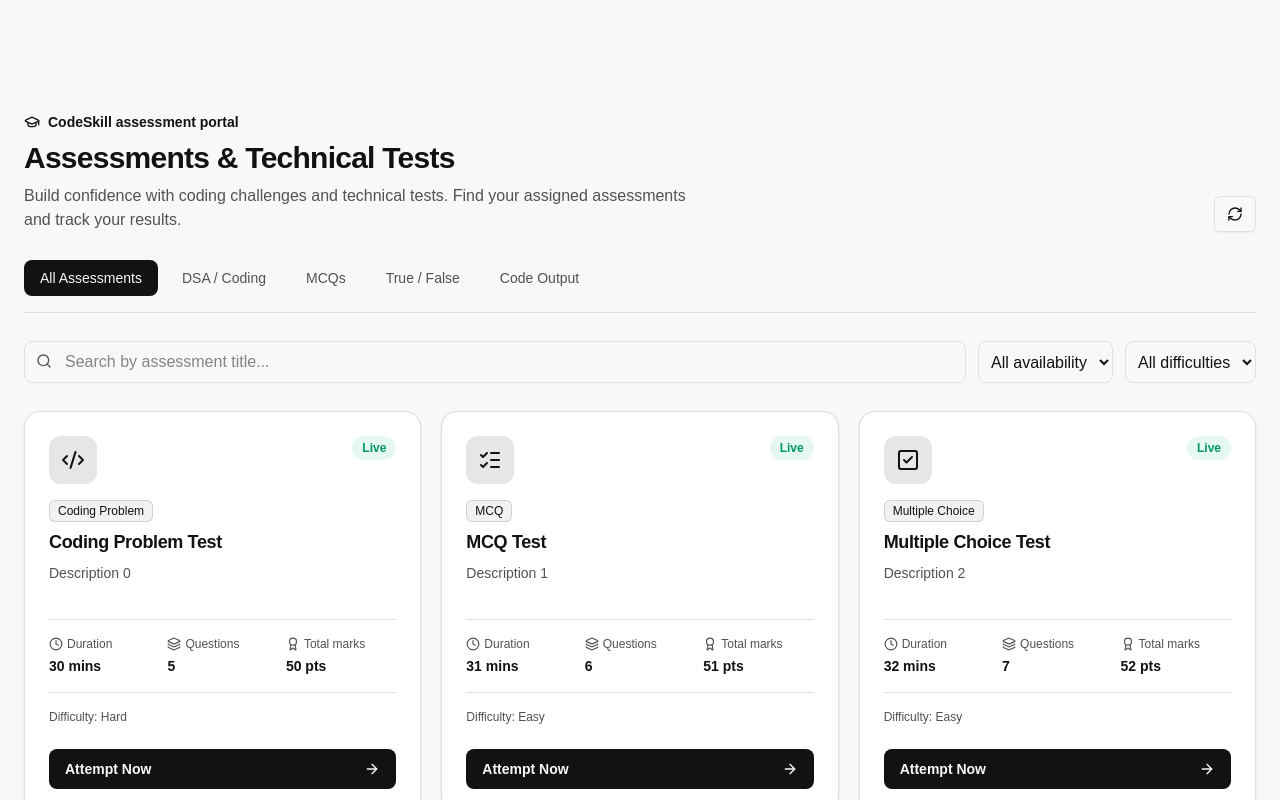
Test: supports title search, grouped MCQ tabs, availability and difficulty filters
Expected: the heading "Coding Problem Test" is shown, 49,532 -> 222,552
Click the button "MCQs" at (326, 278), box 290,260 -> 362,296
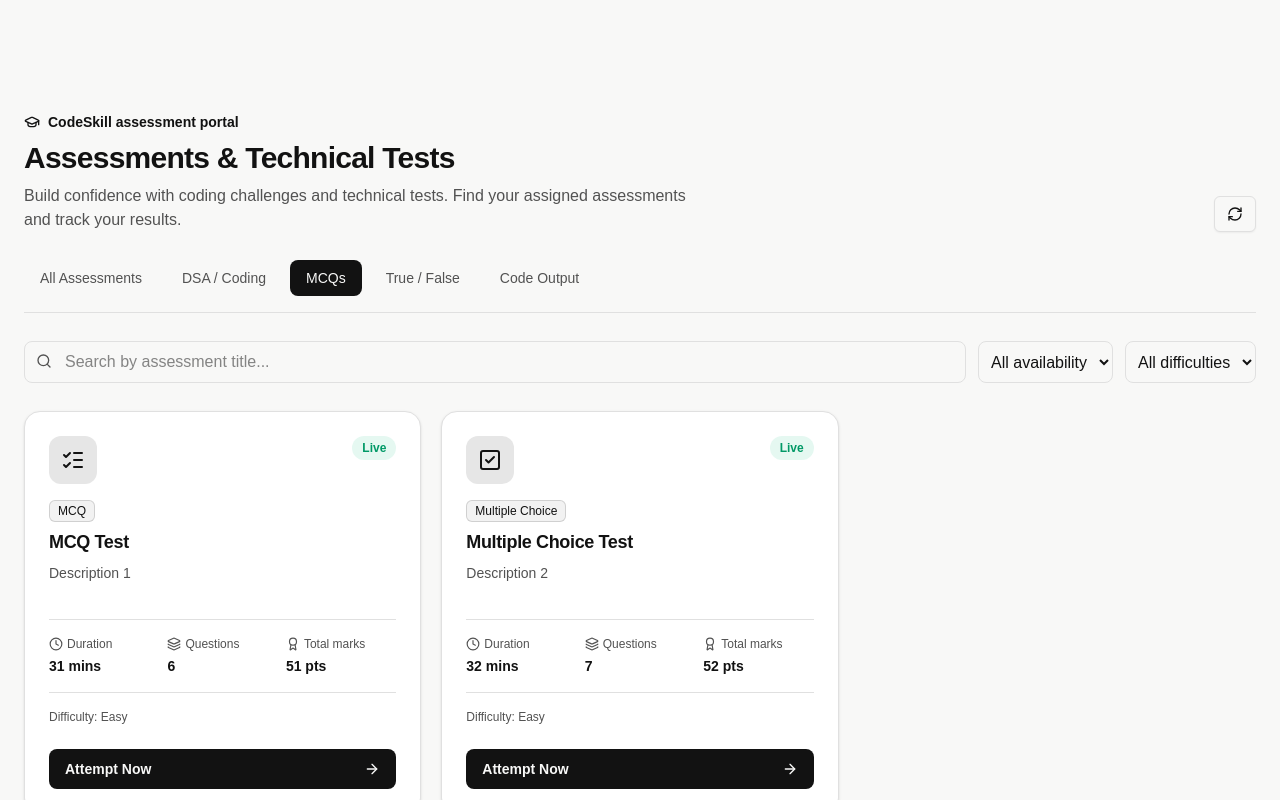
Type "Multiple" into the field named "Search assessments" at (495, 362), box 24,341 -> 966,383
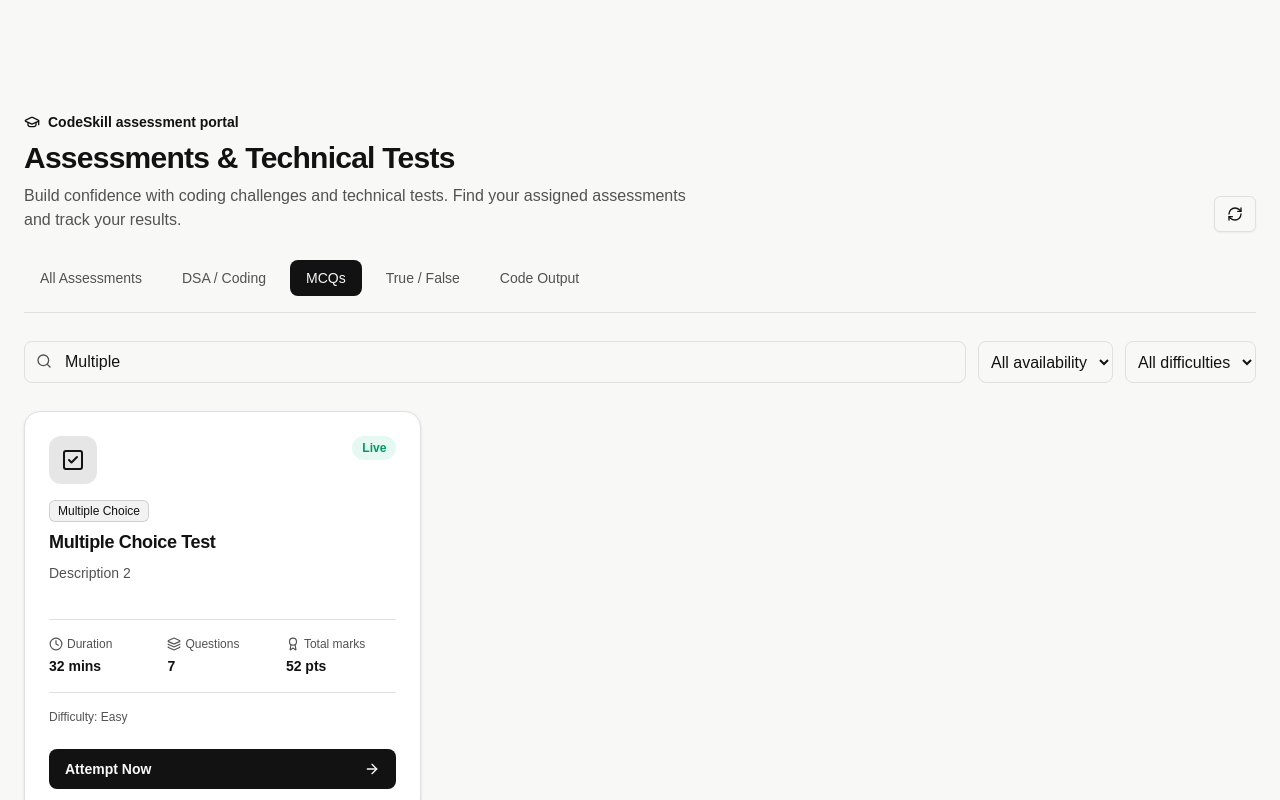
Clear the field named "Search assessments" at (495, 362), box 24,341 -> 966,383
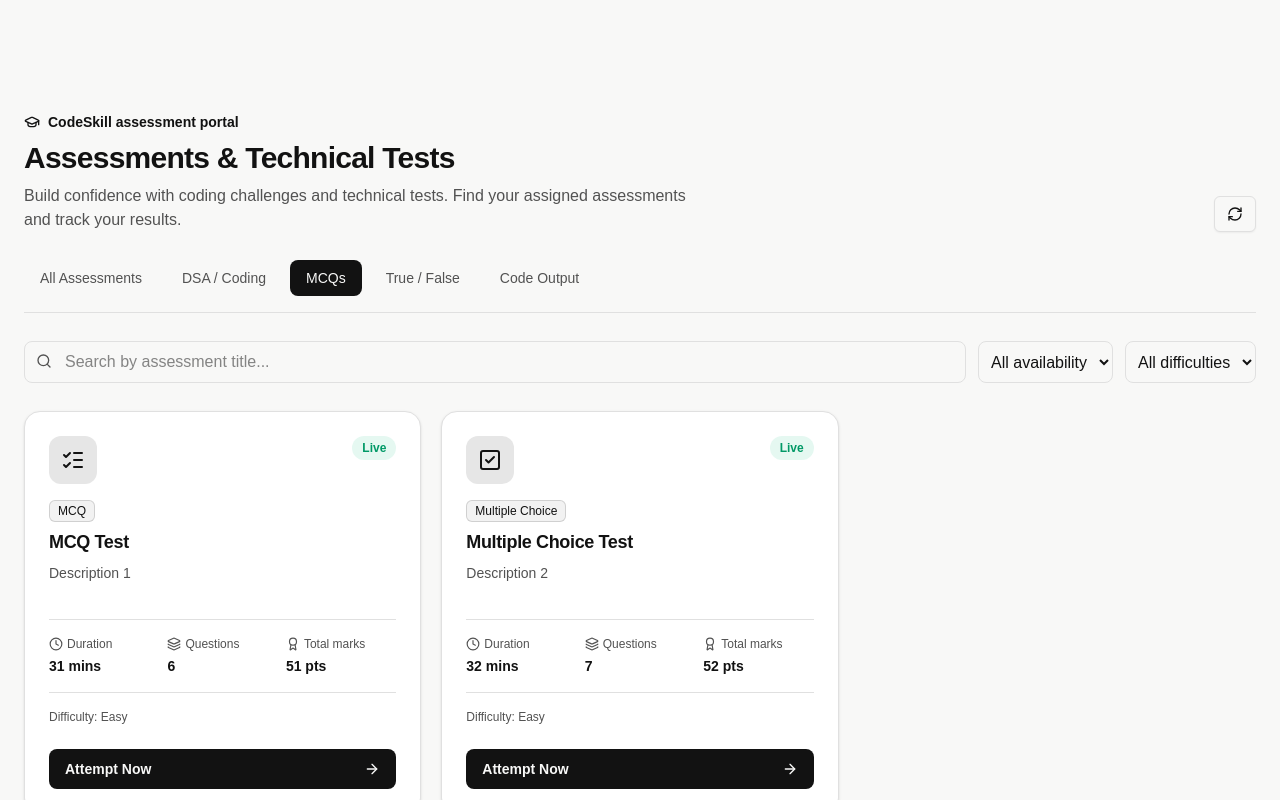
Click the button "All Assessments" at (91, 278), box 24,260 -> 158,296
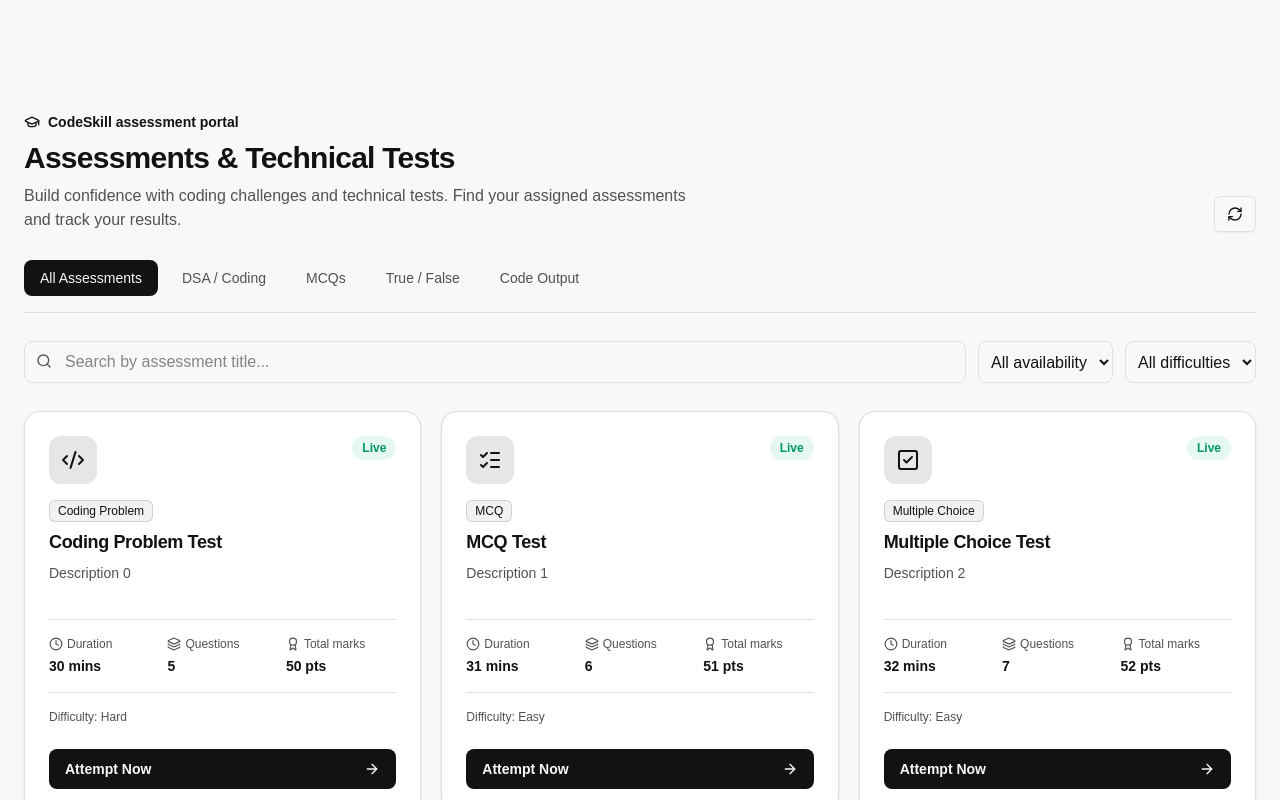
Select "Hard" in the dropdown named "Difficulty" at (1190, 362), box 1125,341 -> 1256,383
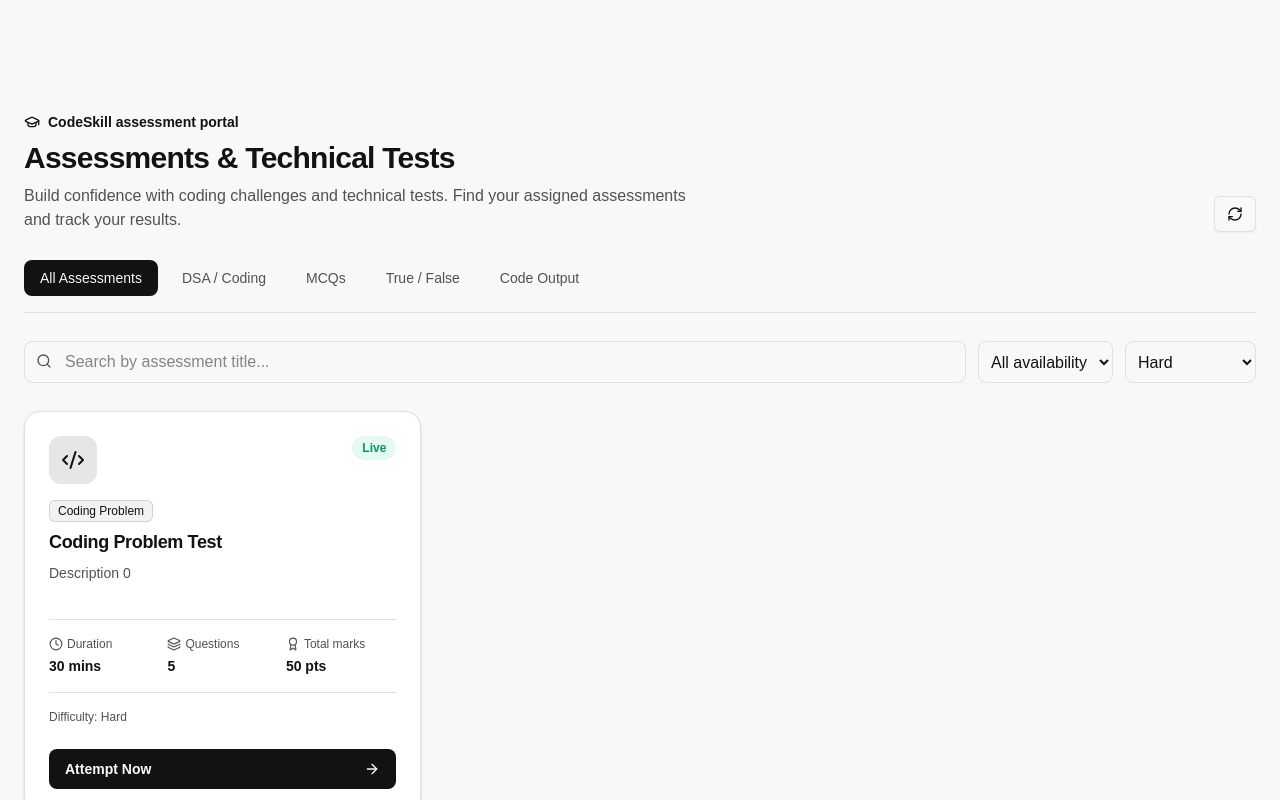
Select "Upcoming" in the dropdown named "Availability" at (1046, 362), box 978,341 -> 1113,383
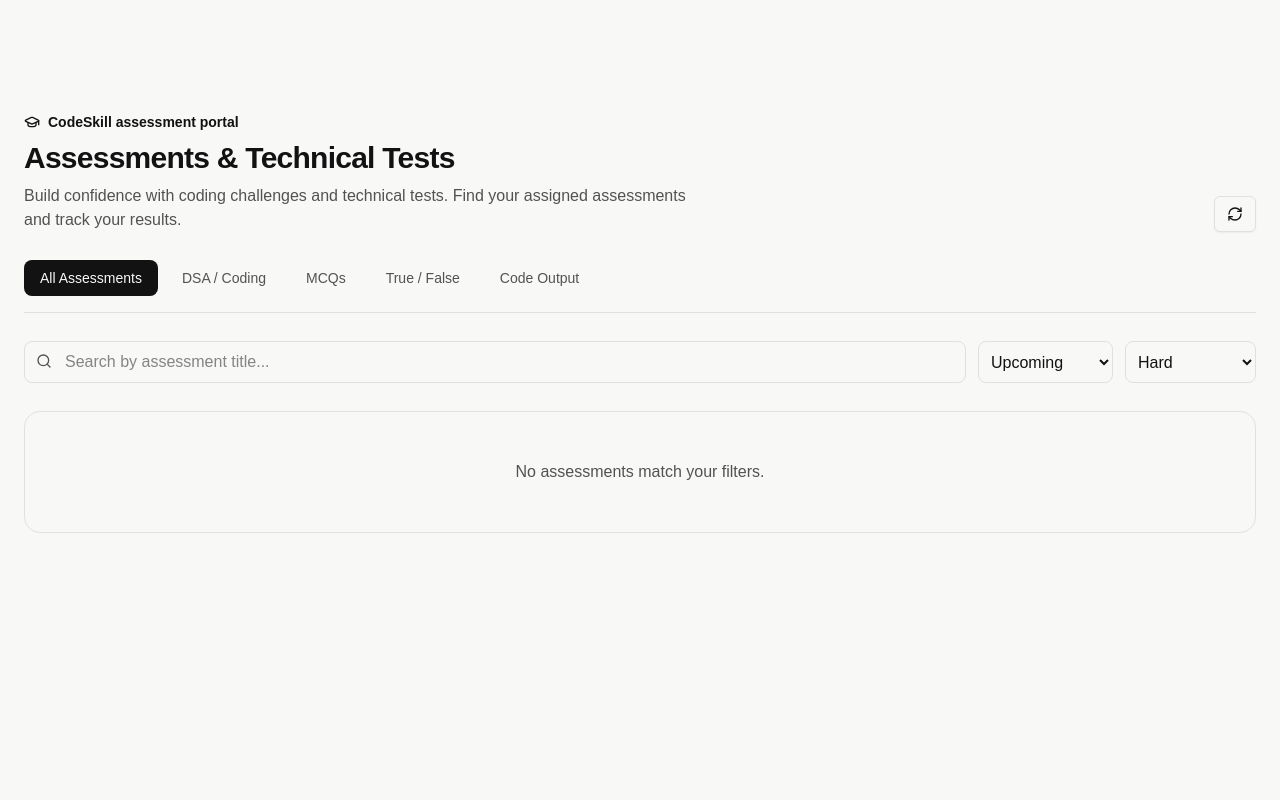
Now the text "No assessments match your filters." is shown, box 24,411 -> 1256,533
